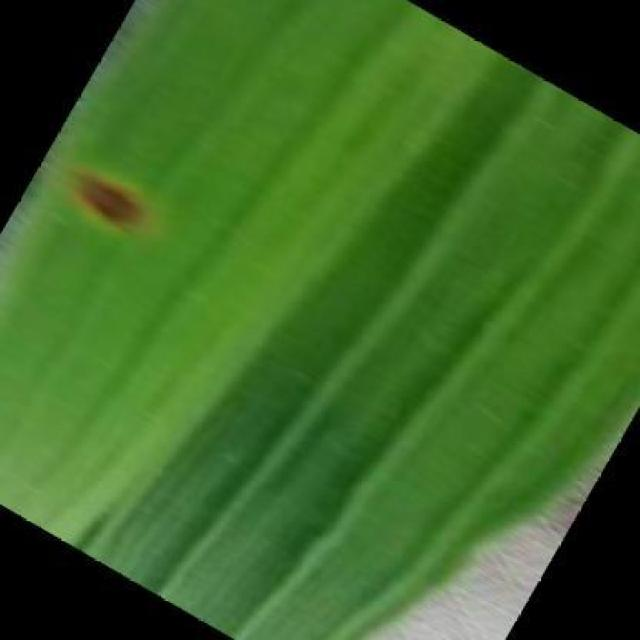Leaf_Blast: (34, 122, 192, 270), (437, 229, 506, 291), (447, 429, 495, 473)
